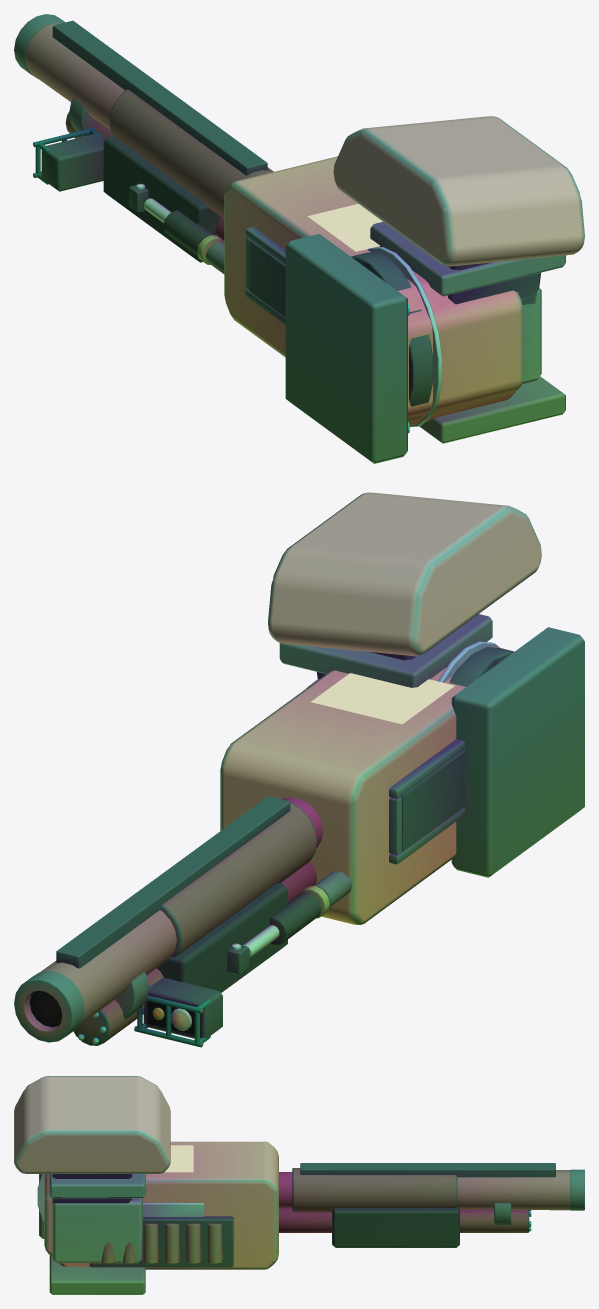
The model's file is arm_slug.glb.
3 renders of one model, top to bottom at view 1: azimuth 30°, elevation 25°; view 2: azimuth 150°, elevation 25°; view 3: azimuth 270°, elevation 25°, orthographic. The views are drawn at different scales.
Visible parts, largest first — view 1: Body__armor, Body__gunmetal, Body__dark, Body__armor_sub, Body__rubber, Body__chrome, Body__decal; view 2: Body__armor, Body__gunmetal, Body__dark, Body__rubber, Body__armor_sub, Body__decal, Body__bore, Body__chrome; view 3: Body__armor, Body__dark, Body__gunmetal, Body__rubber, Body__armor_sub, Body__armor_oxide, Body__chrome, Body__decal.
Boxes of the visible parts, x1,y1,x2,y2 form: Body__armor: (224, 116, 584, 425); Body__gunmetal: (14, 14, 407, 463); Body__dark: (41, 20, 540, 419); Body__armor_sub: (370, 222, 565, 443); Body__rubber: (103, 135, 220, 262); Body__chrome: (136, 183, 442, 433); Body__decal: (307, 204, 382, 251); Body__armor: (220, 492, 541, 924); Body__gunmetal: (14, 627, 584, 1047); Body__dark: (56, 647, 513, 1045); Body__rubber: (157, 882, 321, 992); Body__armor_sub: (279, 614, 492, 687); Body__decal: (311, 673, 454, 724); Body__bore: (29, 990, 194, 1035); Body__chrome: (78, 641, 499, 1044); Body__armor: (14, 1076, 278, 1269); Body__dark: (41, 1163, 555, 1267); Body__gunmetal: (39, 1169, 584, 1238); Body__rubber: (332, 1207, 459, 1247); Body__armor_sub: (49, 1174, 145, 1294); Body__armor_oxide: (101, 1223, 222, 1263); Body__chrome: (37, 1174, 531, 1231); Body__decal: (164, 1145, 193, 1172).
Bounding box in the file's own units: 0.58 × 0.7718 × 2.14.
